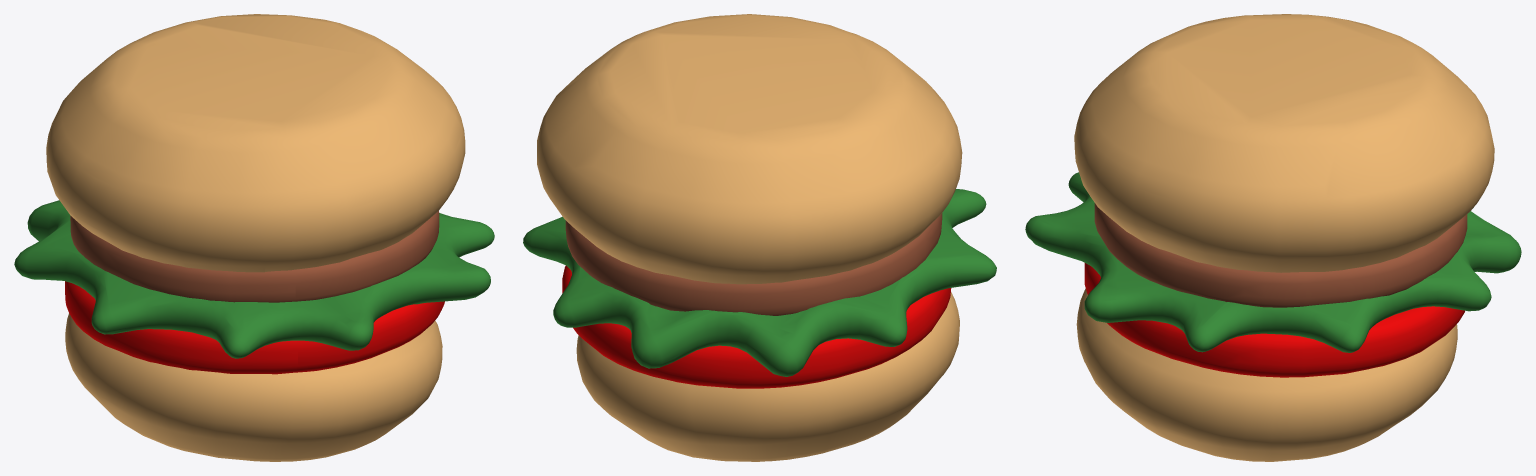
The model's file is borgorfruit.glb.
3 renders of one model, left to right at view 1: azimuth 30°, elevation 25°; view 2: azimuth 150°, elevation 25°; view 3: azimuth 270°, elevation 25°, orthographic.
Visible parts, largest first — view 1: Retopo_geom.029; view 2: Retopo_geom.029; view 3: Retopo_geom.029.
Boxes of the visible parts, <box> form: Retopo_geom.029: <box>14,14,494,461</box>; Retopo_geom.029: <box>523,14,996,461</box>; Retopo_geom.029: <box>1025,14,1521,461</box>.
Size of the model in its own units: 0.7373 by 0.6125 by 0.7917.
